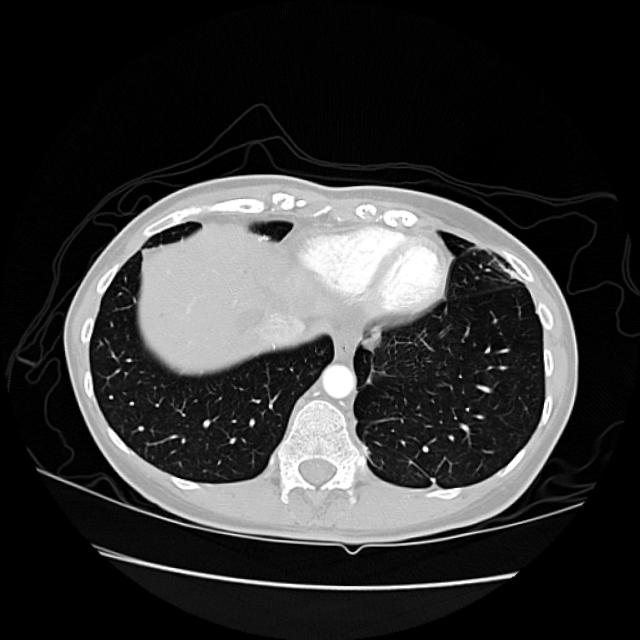nodule: (354, 319, 390, 355)
